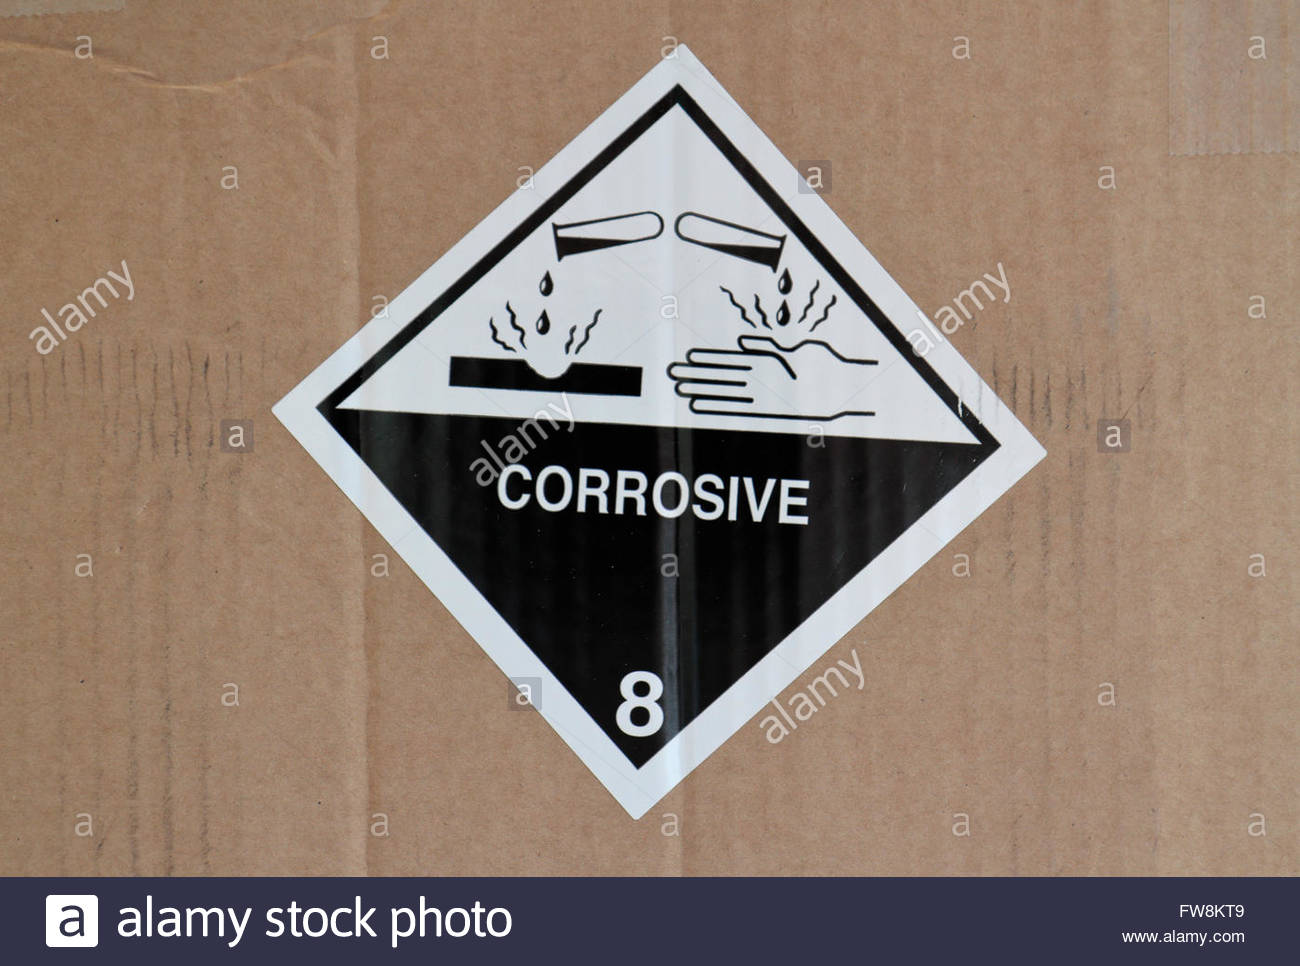Corrosive: (270, 44, 1043, 819)
